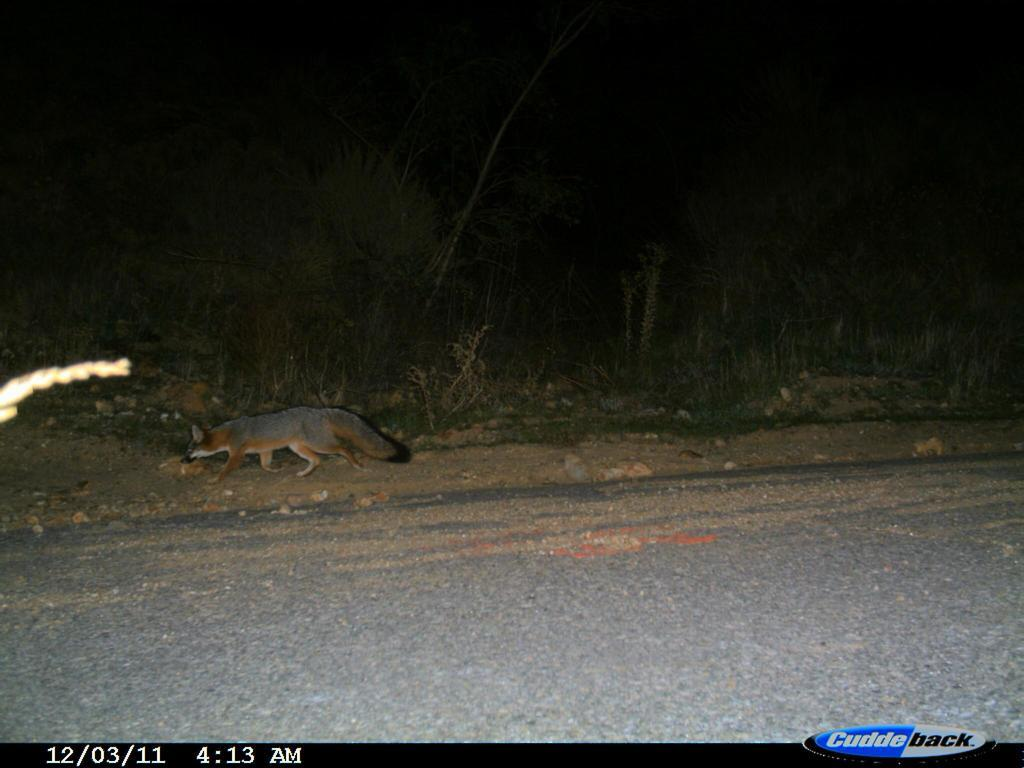fox: (175, 400, 417, 492)
